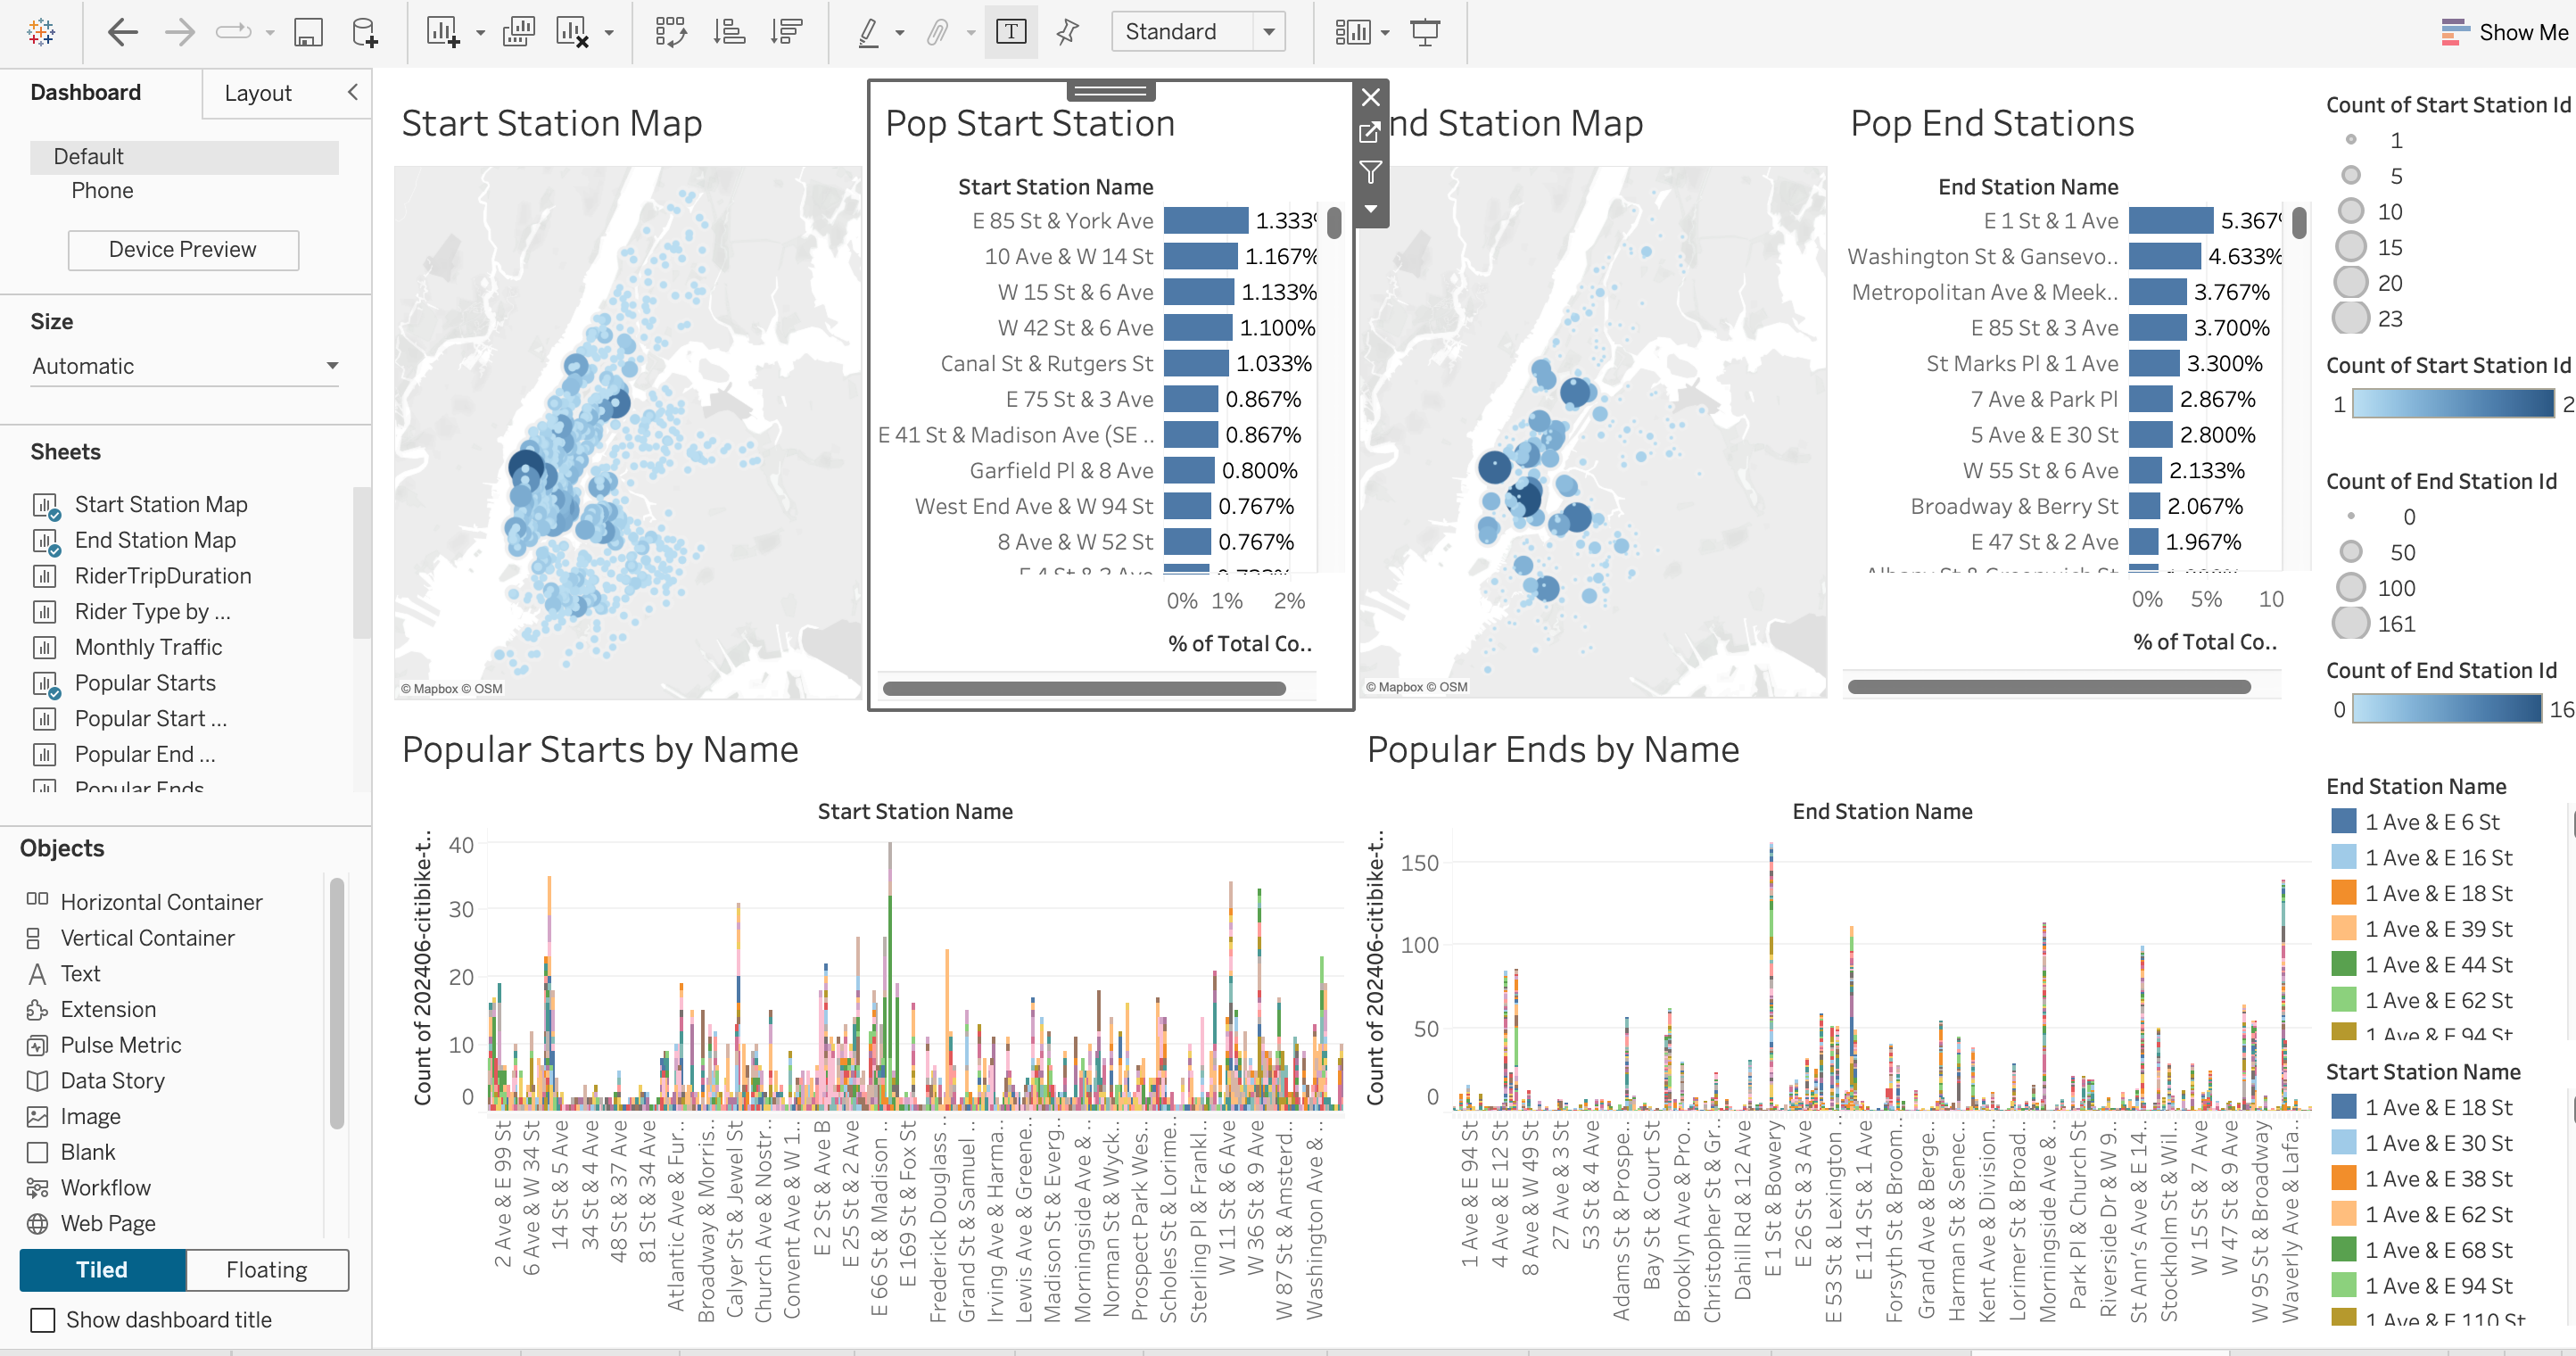

The dashboard page shown, as its layout file describes it:
{"tool":"tableau","page":{"name":"Stations Dashboard","canvas":[1000,1000],"units":"permille","ordinal":1},"visuals":[{"type":"worksheet","title":"Start Station Map","mark":"Automatic","rows":["start_lat"],"cols":["start_lng"],"box":[6.4,11.2,214.6,489.5]},{"type":"worksheet","title":"Pop Start Station","mark":"Automatic","rows":["start_station_name"],"cols":["202406-citibike-tripdata_combined.csv_EEC1912C554F43D4A937E6"],"box":[221,11.2,214.6,489.5]},{"type":"worksheet","title":"End Station Map","mark":"Automatic","rows":["end_lat"],"cols":["end_lng"],"box":[435.6,11.2,214.6,488.8]},{"type":"worksheet","title":"Pop End Stations","mark":"Automatic","rows":["end_station_name"],"cols":["202406-citibike-tripdata_combined.csv_EEC1912C554F43D4A937E6"],"box":[650.2,11.2,214.6,488.8]},{"type":"legend","title":"Start Station Map","param":"[federated.1eug51w1a7snwj1688t5202lmfl5].[cnt:start_station_id:qk]","box":[864.8,11.2,128.7,203.6]},{"type":"legend","title":"Start Station Map","param":"[federated.1eug51w1a7snwj1688t5202lmfl5].[cnt:start_station_id:qk]","box":[864.8,214.8,128.7,90.7]},{"type":"legend","title":"End Station Map","param":"[federated.1eug51w1a7snwj1688t5202lmfl5].[cnt:end_station_id:qk]","box":[864.8,305.4,128.7,147.8]},{"type":"legend","title":"End Station Map","param":"[federated.1eug51w1a7snwj1688t5202lmfl5].[cnt:end_station_id:qk]","box":[864.8,453.3,128.7,90.7]},{"type":"worksheet","title":"Popular Ends","mark":"Automatic","rows":["202406-citibike-tripdata_combined.csv_EEC1912C554F43D4A937E6"],"cols":["end_station_name"],"box":[435.6,500,429.2,488.8]},{"type":"worksheet","title":"Popular Starts","mark":"Automatic","rows":["202406-citibike-tripdata_combined.csv_EEC1912C554F43D4A937E6"],"cols":["start_station_name"],"box":[6.4,500.7,429.2,488.1]},{"type":"legend","title":"Popular Starts","param":"[federated.1eug51w1a7snwj1688t5202lmfl5].[none:end_station_name:nk]","box":[864.8,544,128.7,222.4]},{"type":"legend","title":"Popular Ends","param":"[federated.1eug51w1a7snwj1688t5202lmfl5].[none:start_station_name:nk]","box":[864.8,766.4,128.7,222.5]}]}

Visuals, with their boxes on the dashboard's canvas, which has no fixed pixel size, in thousandths of its width and height (x1, y1, x2, y2). These are canvas units, not pixel positions in the 2576x1356 screenshot, which may show the page scaled, cropped or inside an application window:
"Start Station Map" worksheet: (left=6, top=11, right=221, bottom=501)
"Pop Start Station" worksheet: (left=221, top=11, right=436, bottom=501)
"End Station Map" worksheet: (left=436, top=11, right=650, bottom=500)
"Pop End Stations" worksheet: (left=650, top=11, right=865, bottom=500)
"Start Station Map" legend: (left=865, top=11, right=994, bottom=215)
"Start Station Map" legend: (left=865, top=215, right=994, bottom=306)
"End Station Map" legend: (left=865, top=305, right=994, bottom=453)
"End Station Map" legend: (left=865, top=453, right=994, bottom=544)
"Popular Ends" worksheet: (left=436, top=500, right=865, bottom=989)
"Popular Starts" worksheet: (left=6, top=501, right=436, bottom=989)
"Popular Starts" legend: (left=865, top=544, right=994, bottom=766)
"Popular Ends" legend: (left=865, top=766, right=994, bottom=989)
